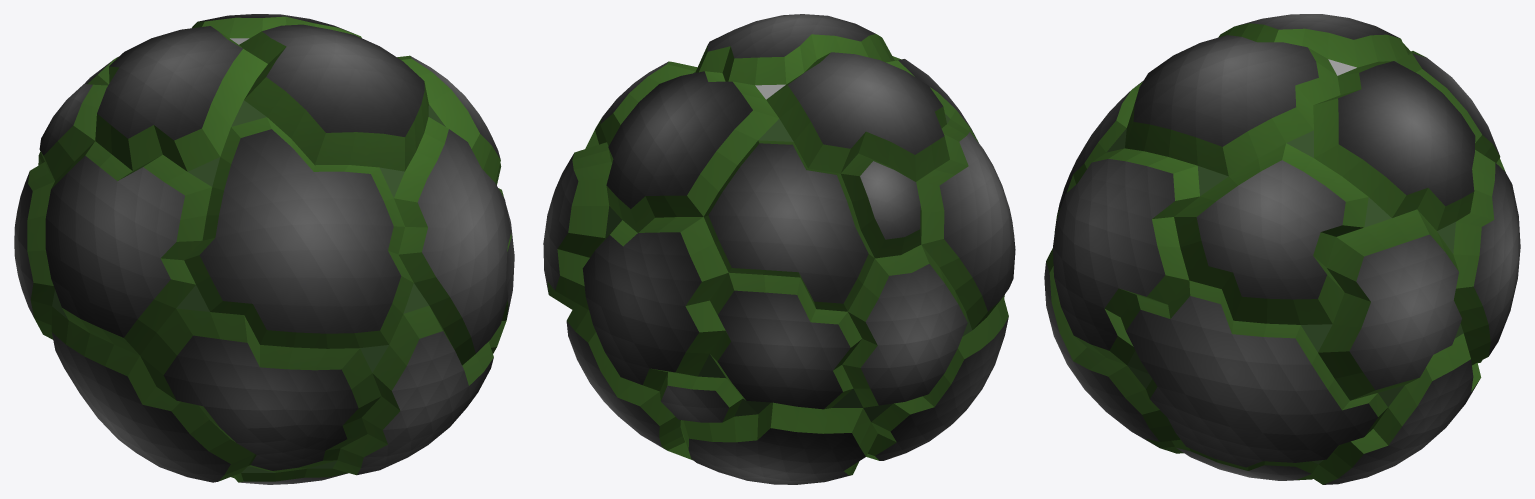
Rendered from Runestrife-Tower-Stone-Projectile.fbx.
3 views of the same model, side by side, from view 1: azimuth 30°, elevation 25°; view 2: azimuth 150°, elevation 25°; view 3: azimuth 270°, elevation 25° (orthographic). The views are drawn at different scales.
Parts seen in each view (by area): view 1: StoneProjectile; view 2: StoneProjectile; view 3: StoneProjectile.
Part boxes in pixels (bbox=[...]): StoneProjectile: bbox=[14, 14, 514, 484]; StoneProjectile: bbox=[543, 14, 1015, 484]; StoneProjectile: bbox=[1044, 14, 1520, 484].
Size of the model in its own units: 172 by 165 by 173.
